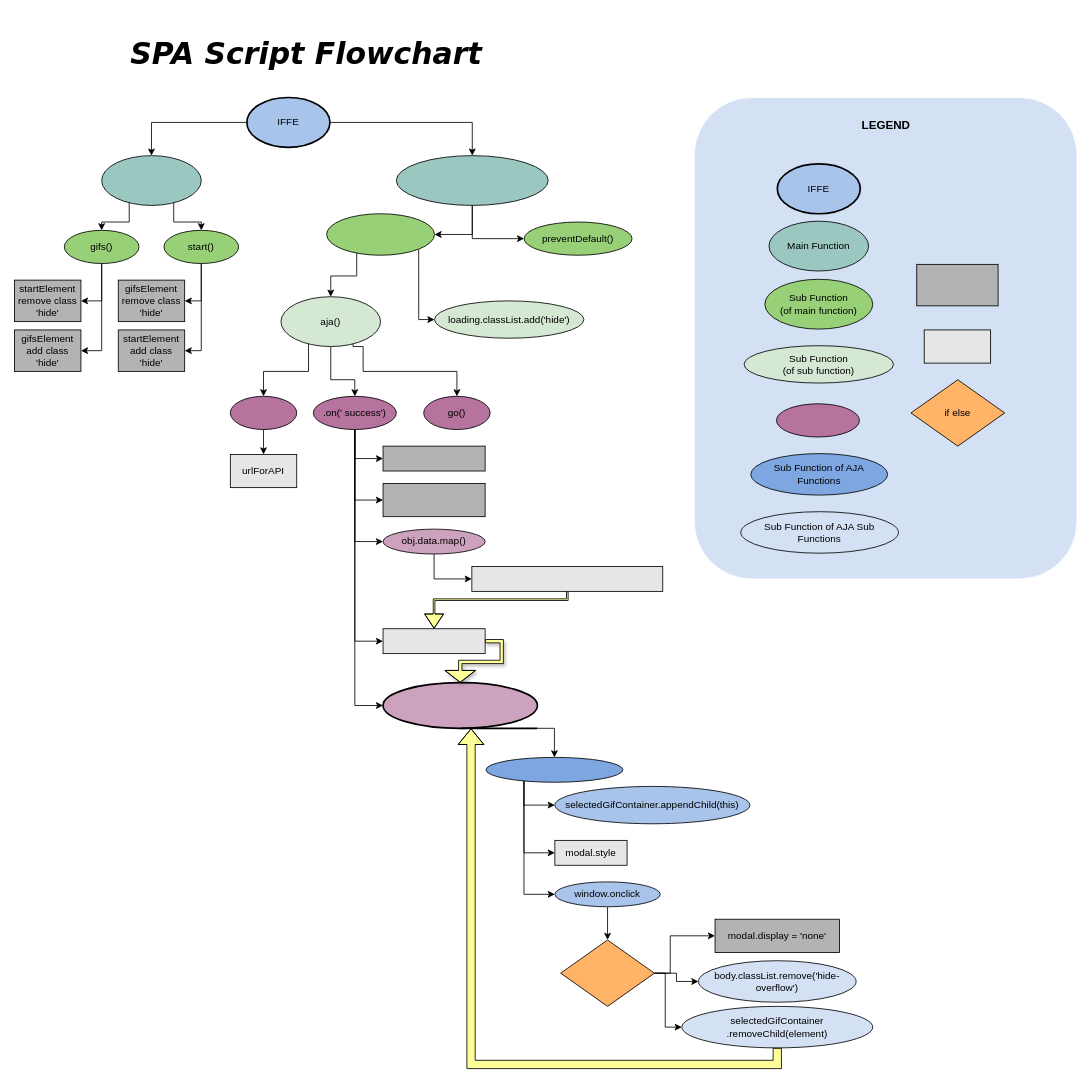
This 1091x1083 diagram has some shape labels left out. The shapes that lost their labels are listed below. From the top down, each one's centre as x and y in pixels, then its label:
point 151,180: routie()
point 471,180: submit addEventListener('click')
point 380,234: getSearchResults()
point 957,285: Add/Remove Class or HTML
point 957,346: Variable
point 263,412: .url()
point 817,420: AJA Function
point 433,458: remove loading icon
point 433,500: display "Search Results for "
point 567,578: _html += <img class="resultgif" .... >
point 433,641: _gifs = $('.resultgif');
point 460,705: _gifs.ForEach(element)
point 554,769: addEventListener('click')
point 607,972: target = modal?
